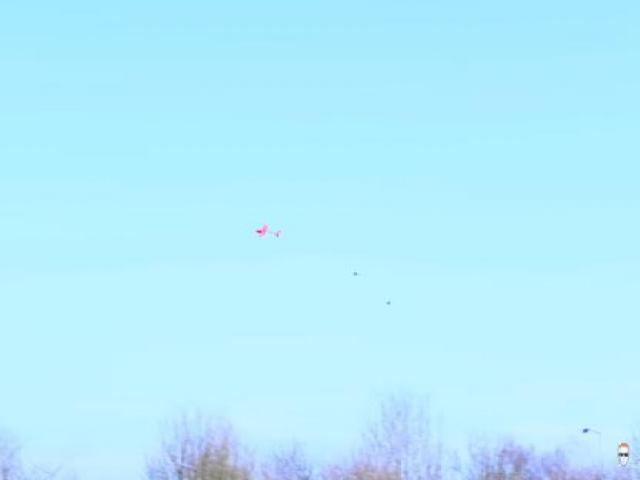uav: (250, 212, 288, 248)
